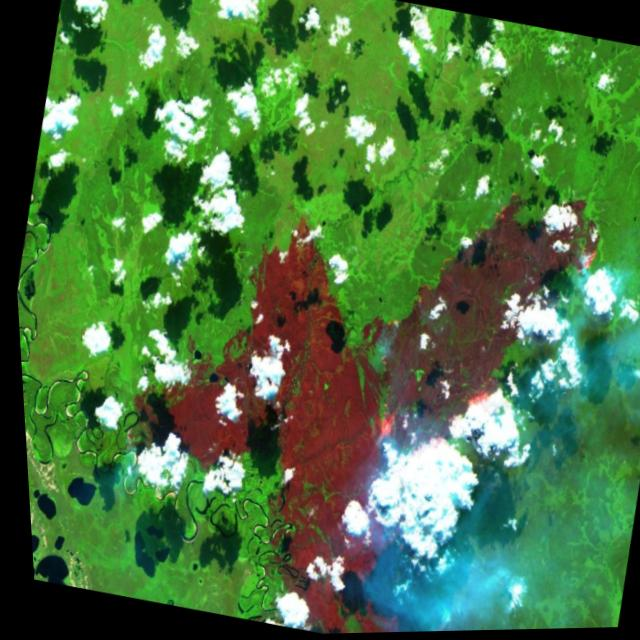fire: (338, 164, 619, 525)
